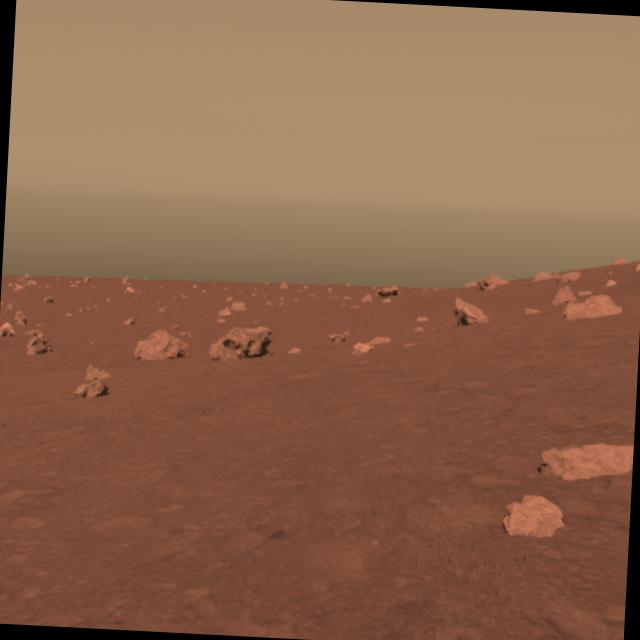rock: (538, 434, 634, 488), (494, 489, 570, 547)
